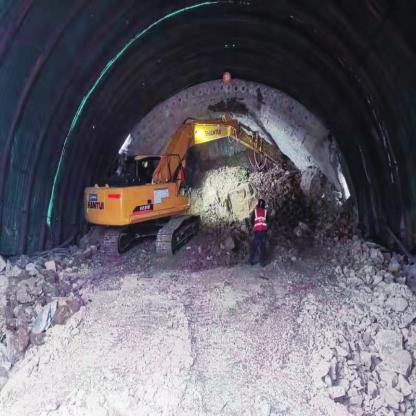excavator: (74, 94, 325, 277)
person: (249, 195, 270, 270)
